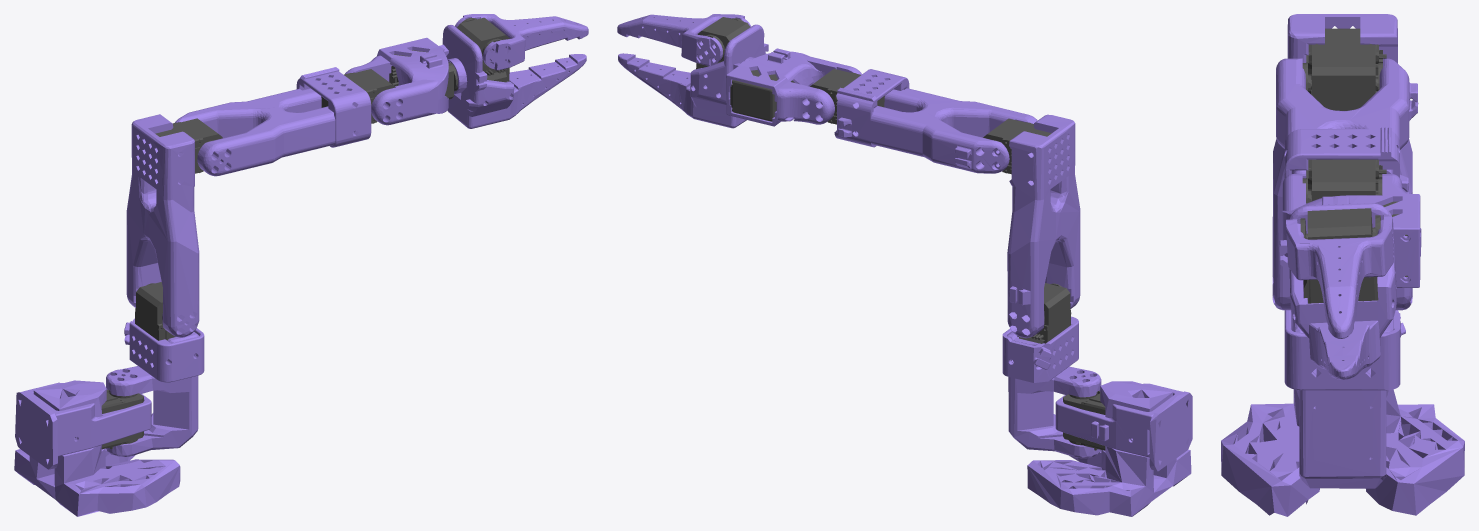
3 views of the same model, side by side, from view 1: azimuth 30°, elevation 25°; view 2: azimuth 150°, elevation 25°; view 3: azimuth 270°, elevation 25° (orthographic). The views are drawn at different scales.
Visible parts, largest first — view 1: base_link_visual (×4), upper_arm_link_visual (×2), lower_arm_link_visual (×3), shoulder_link_visual (×3), gripper_link_visual (×2), wrist_link_visual, moving_jaw_so101_v1_link_visual; view 2: base_link_visual (×4), upper_arm_link_visual (×2), lower_arm_link_visual (×3), shoulder_link_visual (×3), wrist_link_visual (×2), gripper_link_visual (×2), moving_jaw_so101_v1_link_visual; view 3: base_link_visual, lower_arm_link_visual (×3), shoulder_link_visual (×2), upper_arm_link_visual (×2), gripper_link_visual (×2), moving_jaw_so101_v1_link_visual, wrist_link_visual.
Part boxes in pixels (x1,y1,x2,y2): base_link_visual (×4): (14,380,180,516); upper_arm_link_visual (×2): (126,114,222,337); lower_arm_link_visual (×3): (175,67,394,176); shoulder_link_visual (×3): (106,282,204,456); gripper_link_visual (×2): (442,17,586,128); wrist_link_visual: (344,37,448,125); moving_jaw_so101_v1_link_visual: (455,14,588,70); base_link_visual (×4): (1027,381,1192,516); upper_arm_link_visual (×2): (983,114,1080,338); lower_arm_link_visual (×3): (810,69,1037,173); shoulder_link_visual (×3): (1002,283,1101,458); wrist_link_visual (×2): (726,48,861,126); gripper_link_visual (×2): (618,17,768,128); moving_jaw_so101_v1_link_visual: (617,14,751,65); base_link_visual: (1221,389,1464,516); lower_arm_link_visual (×3): (1276,58,1418,203); shoulder_link_visual (×2): (1284,310,1405,488); upper_arm_link_visual (×2): (1272,14,1421,310); gripper_link_visual (×2): (1279,203,1396,379); moving_jaw_so101_v1_link_visual: (1286,214,1393,338); wrist_link_visual: (1282,174,1420,287).
Size of the model in its own units: 0.4296 by 0.2681 by 0.1105.
